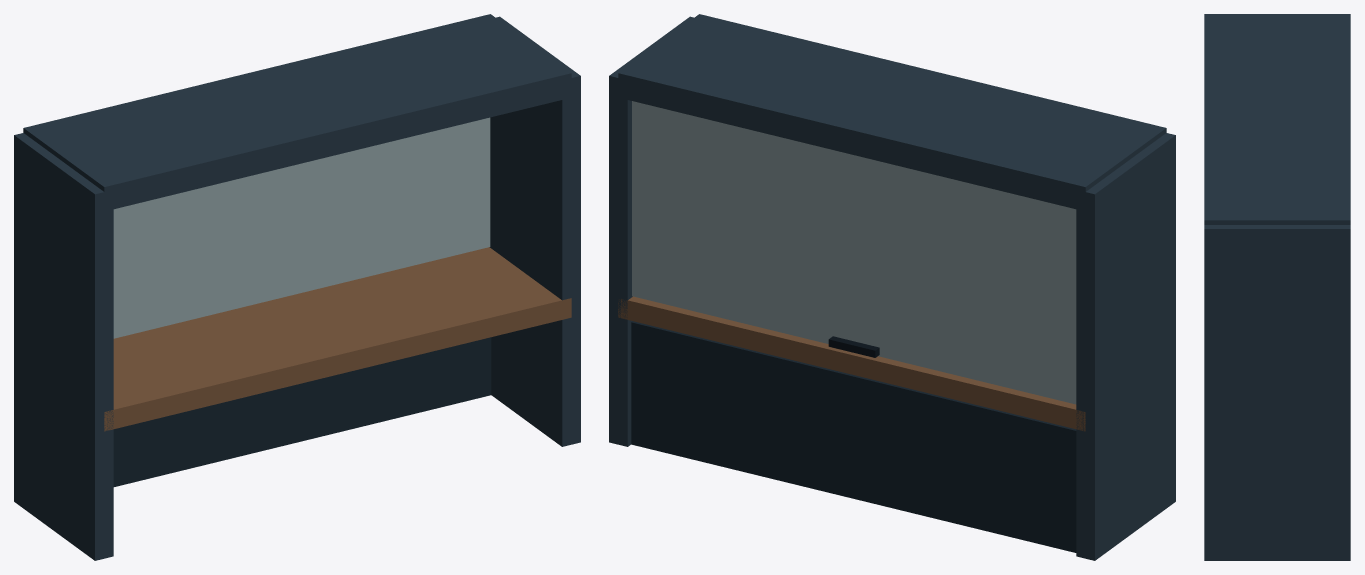
The model's file is horror_service_counter.obj.
The picture shows the model from 3 angles, left to right: view 1: azimuth 30°, elevation 25°; view 2: azimuth 150°, elevation 25°; view 3: azimuth 270°, elevation 25°; orthographic projection. The views are drawn at different scales.
Visible parts, largest first — view 1: Shutter, Top, Counter, Upright-5, Upright5, CounterFront; view 2: Shutter, CounterFront, Top, Upright-5, Counter, Upright5; view 3: Upright5, Top.
Boxes of the visible parts, left/top/right/bottom form: Shutter: left=113, top=117, right=490, bottom=338; Top: left=23, top=14, right=571, bottom=209; Counter: left=104, top=247, right=571, bottom=431; Upright-5: left=14, top=133, right=113, bottom=560; Upright5: left=489, top=16, right=580, bottom=446; CounterFront: left=113, top=337, right=491, bottom=486; Shutter: left=632, top=101, right=1076, bottom=404; CounterFront: left=631, top=321, right=1076, bottom=552; Top: left=618, top=14, right=1166, bottom=210; Upright-5: left=1076, top=133, right=1175, bottom=560; Counter: left=618, top=296, right=1085, bottom=431; Upright5: left=609, top=16, right=693, bottom=446; Upright5: left=1204, top=225, right=1350, bottom=560; Top: left=1204, top=14, right=1350, bottom=224.
Size of the model in its own units: 10.4 by 7.6 by 3.
